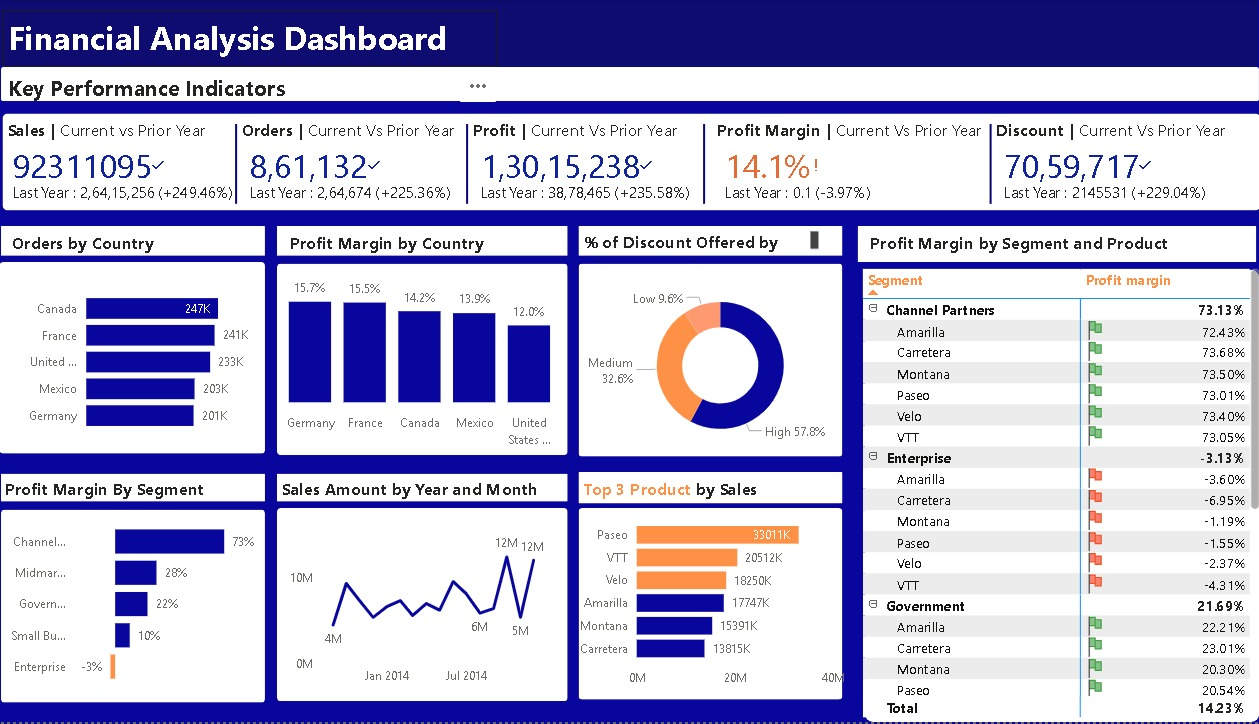

Layout of this report page (visuals, bound fields, positions):
{"tool":"powerbi","page":{"name":"Page 1","canvas":[1280,720],"ordinal":0},"visuals":[{"type":"shape","box":[873.4,270.3,392.2,450],"z":0},{"type":"shape","box":[13.3,0,1251.7,68.3],"z":1000},{"type":"shape","box":[15.1,68,1251,34],"z":2000},{"type":"shape","box":[17,115.3,1251,96.4],"z":3000},{"type":"shape","box":[289.1,264.1,289.1,190.6],"z":4000},{"type":"shape","box":[589.1,471.9,262.5,31.2],"z":5000},{"type":"shape","box":[289.1,473.4,289.1,28.1],"z":6000},{"type":"shape","box":[15.6,473.4,262.5,28.1],"z":7000},{"type":"shape","box":[15.6,226.6,262.5,29.7],"z":8000},{"type":"shape","box":[289.1,226.6,289.1,29.7],"z":9000},{"type":"shape","box":[589.1,226.6,262.5,29.7],"z":10000},{"type":"shape","box":[589.1,264.1,262.5,192.2],"z":11000},{"type":"shape","box":[14.1,262.5,264.1,190.6],"z":12000},{"type":"shape","box":[15.6,509.4,262.5,192.2],"z":13000},{"type":"shape","box":[289.1,507.8,289.1,192.2],"z":14000},{"type":"shape","box":[589.1,507.8,262.5,190.6],"z":15000},{"type":"shape","box":[867.2,226.6,396.9,35.9],"z":16000},{"type":"textbox","box":[16.4,11.9,492.3,56.7],"z":17000},{"type":"textbox","box":[16.4,68.6,381.9,46.2],"z":18000},{"type":"kpi","fields":{"Indicator":["Table.Sales Amount"],"TrendLine":["Date Table.Year"],"Goal":["Table.Sales Amount LY"]},"box":[13.2,139.8,251.3,71.8],"z":19000},{"type":"textbox","box":[17,115.3,260.8,49.1],"z":20000},{"type":"shape","box":[194.6,124.7,109.6,79.4],"z":21000},{"type":"kpi","fields":{"TrendLine":["Date Table.Year"],"Indicator":["Table.Orders"],"Goal":["Table.Orders LY"]},"box":[249.5,139.8,243.8,71.8],"z":22000},{"type":"kpi","fields":{"TrendLine":["Date Table.Year"],"Indicator":["Table.Profit"],"Goal":["Table.Profit LY"]},"box":[478.1,139.8,243.8,71.8],"z":23000},{"type":"kpi","fields":{"TrendLine":["Date Table.Year"],"Indicator":["Table.Profit margin"],"Goal":["Table.Profit Margin LY"]},"box":[721.9,139.8,238.1,71.8],"z":24000},{"type":"shape","box":[423.3,124.7,109.6,79.4],"z":25000},{"type":"shape","box":[659.5,124.7,109.6,79.4],"z":26000},{"type":"shape","box":[944.9,124.7,109.6,79.4],"z":27000},{"type":"kpi","fields":{"TrendLine":["Date Table.Year"],"Indicator":["Table.Discount Offered"],"Goal":["Table.Discount Offered LY"]},"box":[999.7,139.8,238.1,71.8],"z":28000},{"type":"textbox","box":[249.5,115.3,243.8,49.1],"z":29000},{"type":"textbox","box":[478.1,115.3,223,49.1],"z":30000},{"type":"textbox","box":[722.3,115.1,289.2,50],"z":31000},{"type":"textbox","box":[999.7,115.3,264.6,49.1],"z":32000},{"type":"barChart","fields":{"Y":["Table.Orders"],"Category":["Financials.Country"]},"box":[25,275,242.2,167.2],"z":33000},{"type":"textbox","box":[21.2,227.1,266.5,36.3],"z":34000},{"type":"clusteredColumnChart","fields":{"Y":["Table.Profit margin"],"Category":["Financials.Country"]},"box":[267.2,262.5,321.9,192.2],"z":35000},{"type":"textbox","box":[296.9,226.6,281.2,37.5],"z":36000},{"type":"donutChart","fields":{"Category":["Financials.Discount Band"],"Y":["Table.Discount Offered"]},"box":[589.1,276.6,281.2,178.1],"z":37000},{"type":"textbox","box":[589.1,226.6,243.8,37.5],"z":38000},{"type":"textbox","box":[960,12.1,304.4,56],"z":39000},{"type":"barChart","fields":{"Y":["Table.Profit margin"],"Category":["Financials.Segment"]},"box":[7.8,503.1,270.3,192.2],"z":40000},{"type":"lineChart","fields":{"Y":["Table.Sales Amount"],"Category":["Date Table.Date.Variation.Date Hierarchy.Year","Date Table.Date.Variation.Date Hierarchy.Month"]},"box":[296.9,518.8,273.4,173.4],"z":41000},{"type":"barChart","fields":{"Y":["Table.Sales Amount"],"Category":["Financials.Product"]},"box":[578.1,503.1,289.1,192.2],"z":42000},{"type":"textbox","box":[14.1,471.9,253.1,35.9],"z":43000},{"type":"textbox","box":[589.1,471.9,262.5,37.5],"z":44000},{"type":"textbox","box":[289.1,471.9,281.2,37.5],"z":45000},{"type":"pivotTable","fields":{"Rows":["Financials.Segment","Financials.Product"],"Values":["Table.Profit margin"]},"box":[867.2,264.1,404.7,456.2],"z":46000},{"type":"textbox","box":[873.4,226.6,376.6,48.4],"z":47000}]}

Visuals, with their boxes in screenshot pixels (x1, y1, x2, y2), scaled from the page's 1280x720 canvas onto the 1259x724 screenshot:
shape: x1=859 y1=272 x2=1245 y2=723
shape: x1=13 y1=0 x2=1244 y2=69
shape: x1=15 y1=68 x2=1245 y2=103
shape: x1=17 y1=116 x2=1247 y2=213
shape: x1=284 y1=266 x2=569 y2=457
shape: x1=579 y1=475 x2=838 y2=506
shape: x1=284 y1=476 x2=569 y2=504
shape: x1=15 y1=476 x2=274 y2=504
shape: x1=15 y1=228 x2=274 y2=258
shape: x1=284 y1=228 x2=569 y2=258
shape: x1=579 y1=228 x2=838 y2=258
shape: x1=579 y1=266 x2=838 y2=459
shape: x1=14 y1=264 x2=274 y2=456
shape: x1=15 y1=512 x2=274 y2=705
shape: x1=284 y1=511 x2=569 y2=704
shape: x1=579 y1=511 x2=838 y2=702
shape: x1=853 y1=228 x2=1243 y2=264
textbox: x1=16 y1=12 x2=500 y2=69
textbox: x1=16 y1=69 x2=392 y2=115
kpi - Table.Sales Amount x Date Table.Year: x1=13 y1=141 x2=260 y2=213
textbox: x1=17 y1=116 x2=273 y2=165
shape: x1=191 y1=125 x2=299 y2=205
kpi - Date Table.Year x Table.Orders: x1=245 y1=141 x2=485 y2=213
kpi - Date Table.Year x Table.Profit: x1=470 y1=141 x2=710 y2=213
kpi - Date Table.Year x Table.Profit margin: x1=710 y1=141 x2=944 y2=213
shape: x1=416 y1=125 x2=524 y2=205
shape: x1=649 y1=125 x2=756 y2=205
shape: x1=929 y1=125 x2=1037 y2=205
kpi - Date Table.Year x Table.Discount Offered: x1=983 y1=141 x2=1217 y2=213
textbox: x1=245 y1=116 x2=485 y2=165
textbox: x1=470 y1=116 x2=690 y2=165
textbox: x1=710 y1=116 x2=995 y2=166
textbox: x1=983 y1=116 x2=1244 y2=165
barChart - Table.Orders x Financials.Country: x1=25 y1=277 x2=263 y2=445
textbox: x1=21 y1=228 x2=283 y2=265
clusteredColumnChart - Table.Profit margin x Financials.Country: x1=263 y1=264 x2=579 y2=457
textbox: x1=292 y1=228 x2=569 y2=266
donutChart - Financials.Discount Band x Table.Discount Offered: x1=579 y1=278 x2=856 y2=457
textbox: x1=579 y1=228 x2=819 y2=266
textbox: x1=944 y1=12 x2=1244 y2=68
barChart - Table.Profit margin x Financials.Segment: x1=8 y1=506 x2=274 y2=699
lineChart - Table.Sales Amount x Date Table.Date.Variation.Date Hierarchy.Year: x1=292 y1=522 x2=561 y2=696
barChart - Table.Sales Amount x Financials.Product: x1=569 y1=506 x2=853 y2=699
textbox: x1=14 y1=475 x2=263 y2=511
textbox: x1=579 y1=475 x2=838 y2=512
textbox: x1=284 y1=475 x2=561 y2=512
pivotTable - Financials.Segment x Financials.Product: x1=853 y1=266 x2=1251 y2=723
textbox: x1=859 y1=228 x2=1229 y2=277
